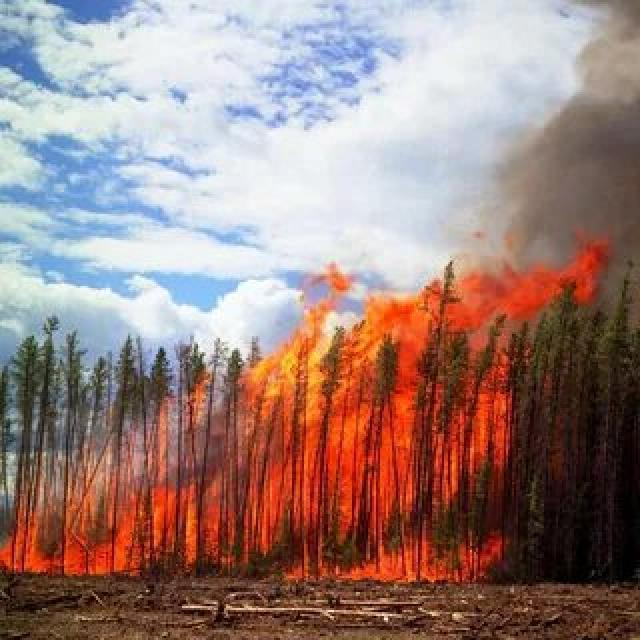Fire: (21, 336, 564, 591)
Smoke: (481, 0, 640, 305)
